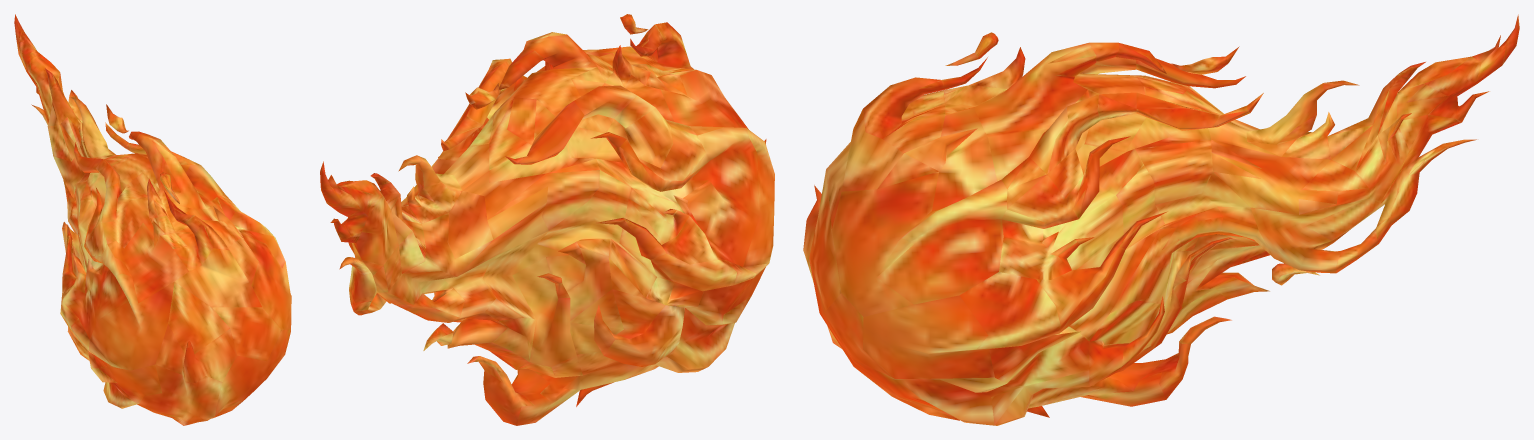
Rendered from bolt_fire.glb.
The picture shows the model from 3 angles, left to right: view 1: azimuth 30°, elevation 25°; view 2: azimuth 150°, elevation 25°; view 3: azimuth 270°, elevation 25°; orthographic projection. The views are drawn at different scales.
Parts seen in each view (by area): view 1: bolt_fire; view 2: bolt_fire; view 3: bolt_fire.
Part boxes in pixels (bbox=[...]): bolt_fire: bbox=[14, 14, 291, 425]; bolt_fire: bbox=[320, 14, 774, 425]; bolt_fire: bbox=[803, 14, 1519, 425].
Bounding box in the file's own units: 0.4825 × 0.6348 × 1.
1 material, 1 textured.
